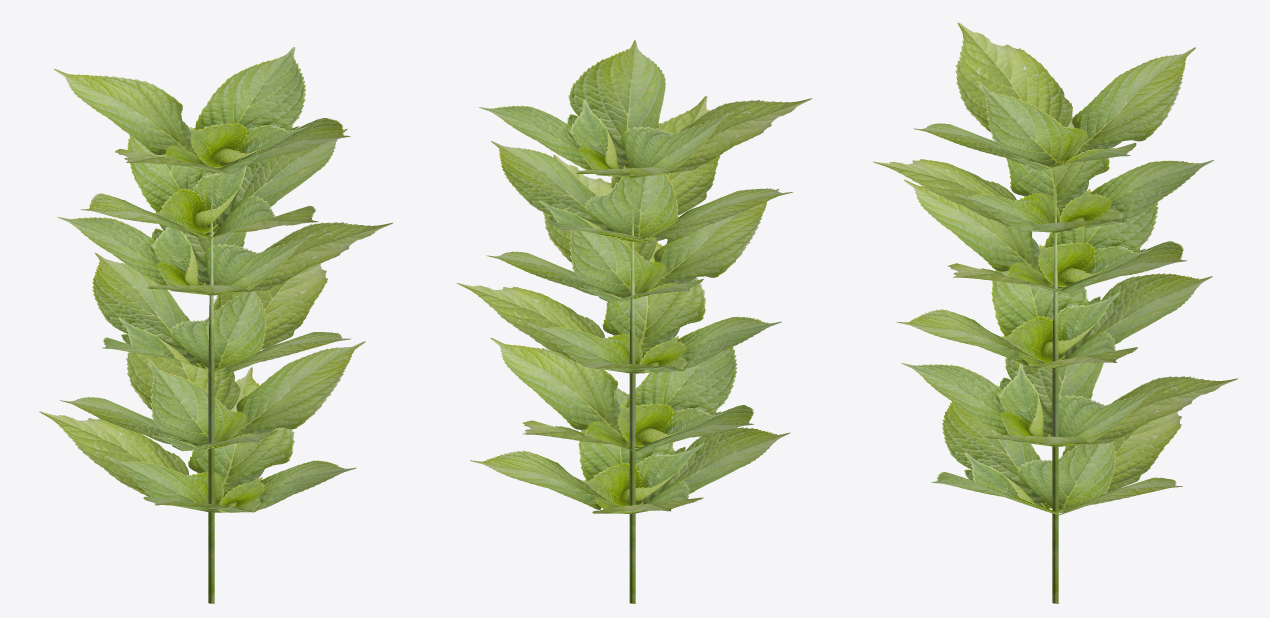
File: plant_001.dae
3 views of the same model, side by side, from view 1: azimuth 30°, elevation 25°; view 2: azimuth 150°, elevation 25°; view 3: azimuth 270°, elevation 25° (orthographic). The views are drawn at different scales.
Visible parts, largest first — view 1: Plant_001; view 2: Plant_001; view 3: Plant_001.
Boxes of the visible parts, x1=… form: Plant_001: x1=39, y1=47, x2=392, y2=603; Plant_001: x1=456, y1=40, x2=812, y2=603; Plant_001: x1=873, y1=22, x2=1238, y2=603.
Bounding box in the file's own units: 1.95 × 2.79 × 1.95.
